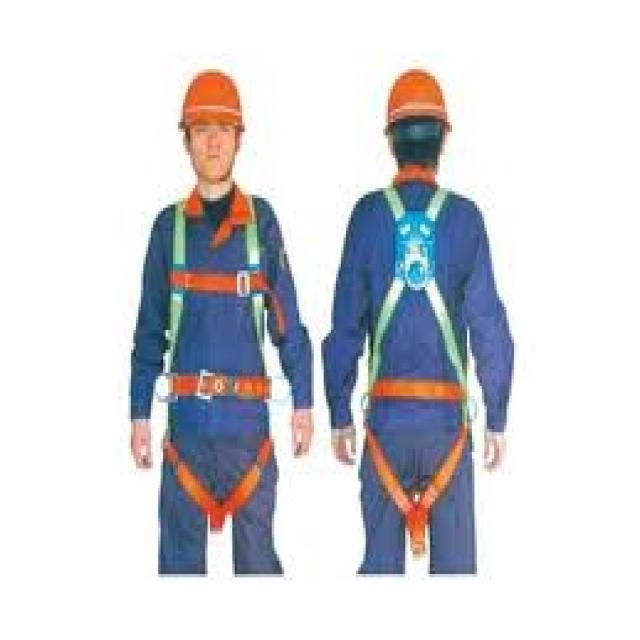Arnes_seguridad: (362, 185, 472, 558), (161, 193, 274, 533)
